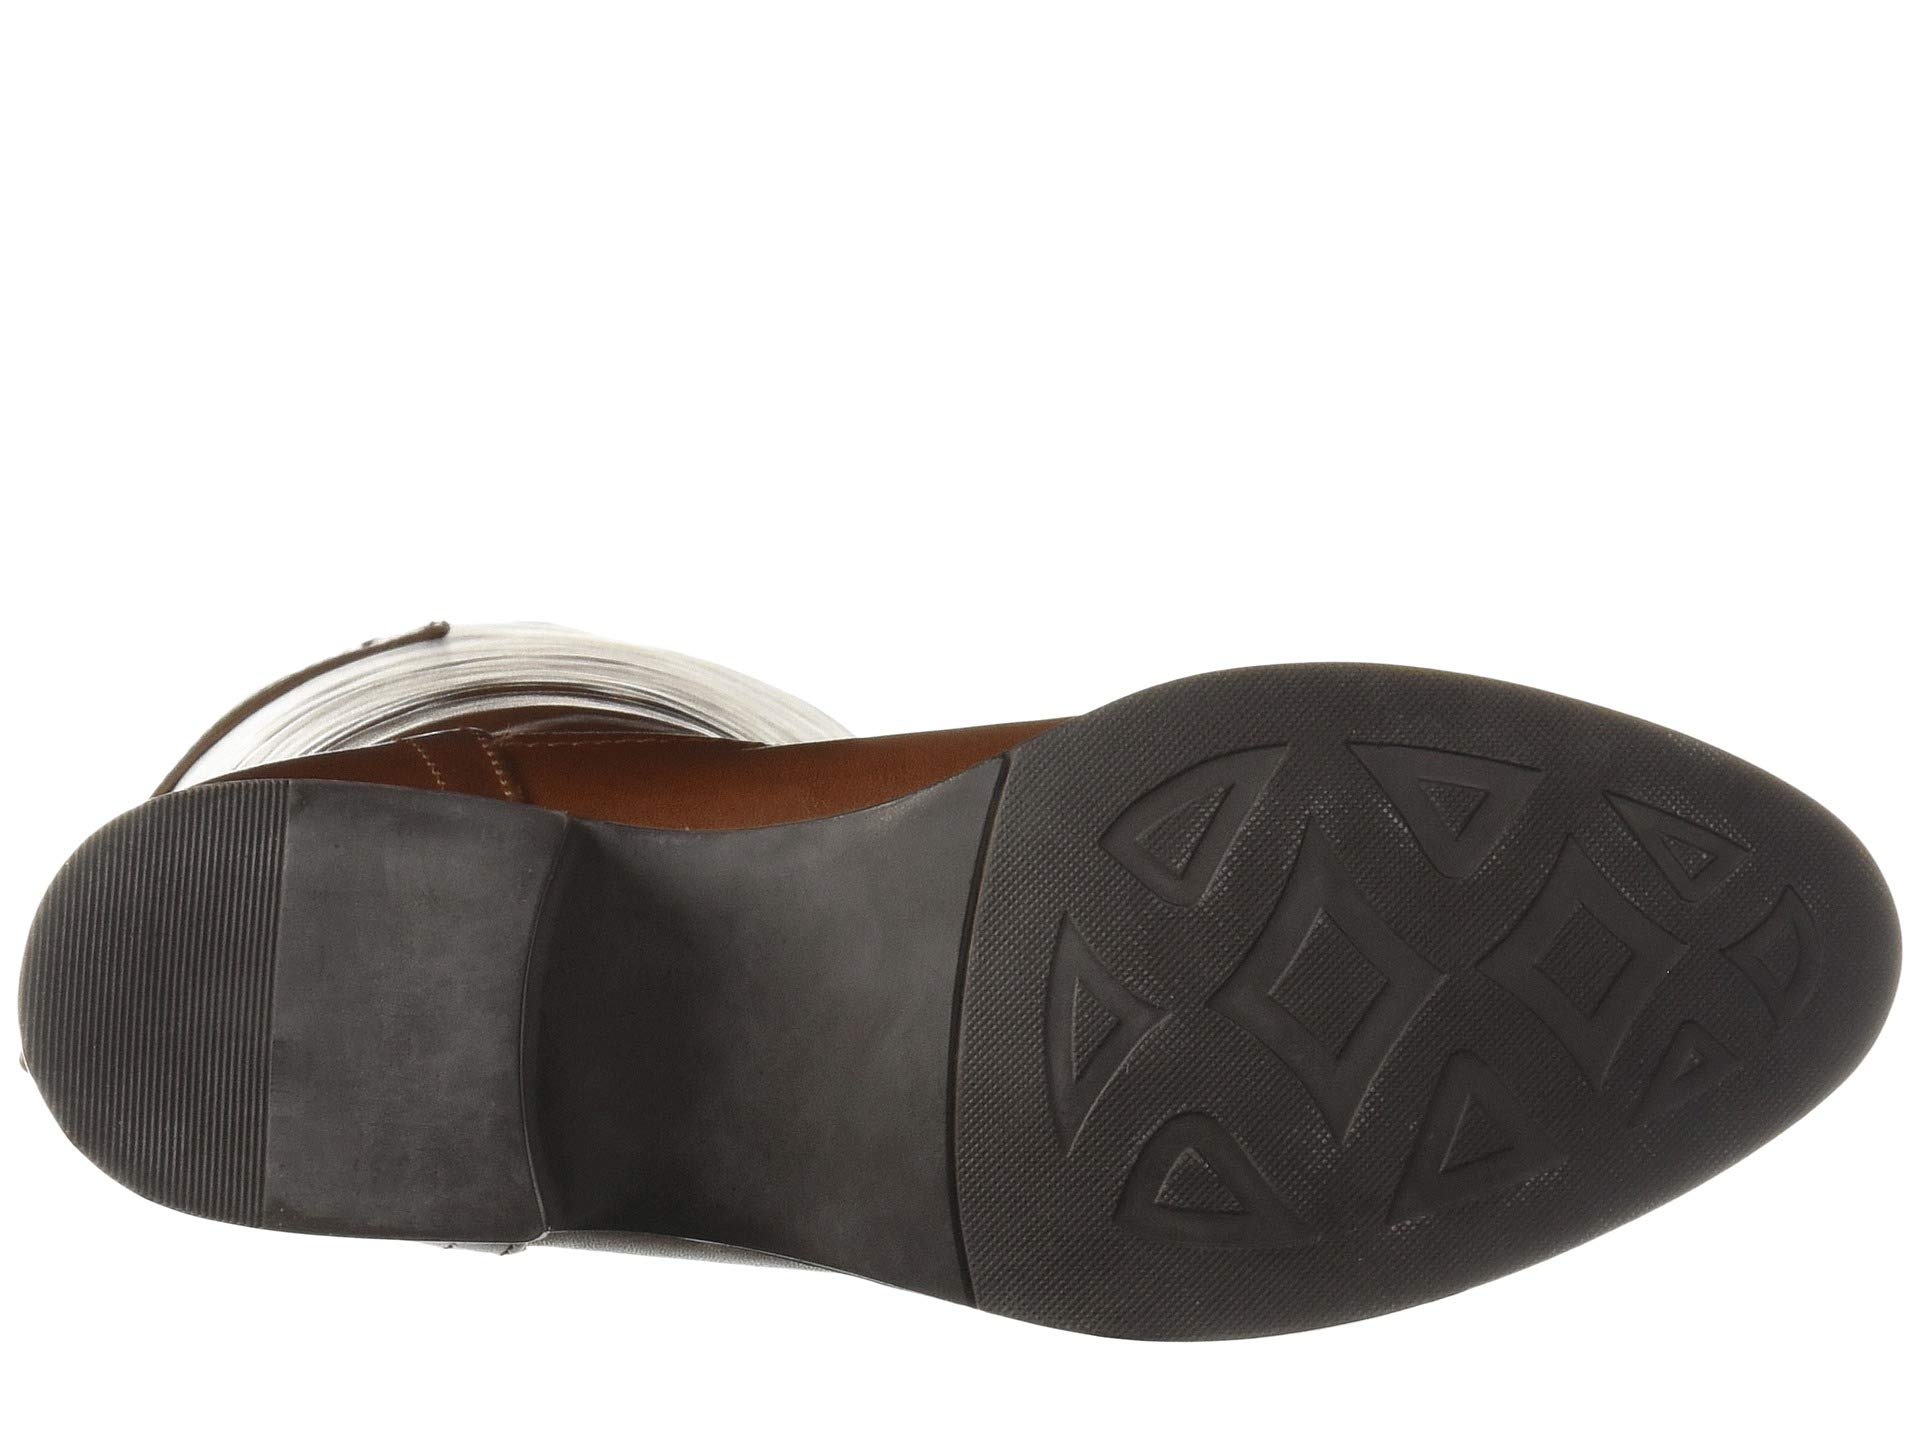quad: (1160, 753, 1596, 1209)
triangle: (1160, 753, 1596, 1209), (1612, 771, 1869, 1080)
